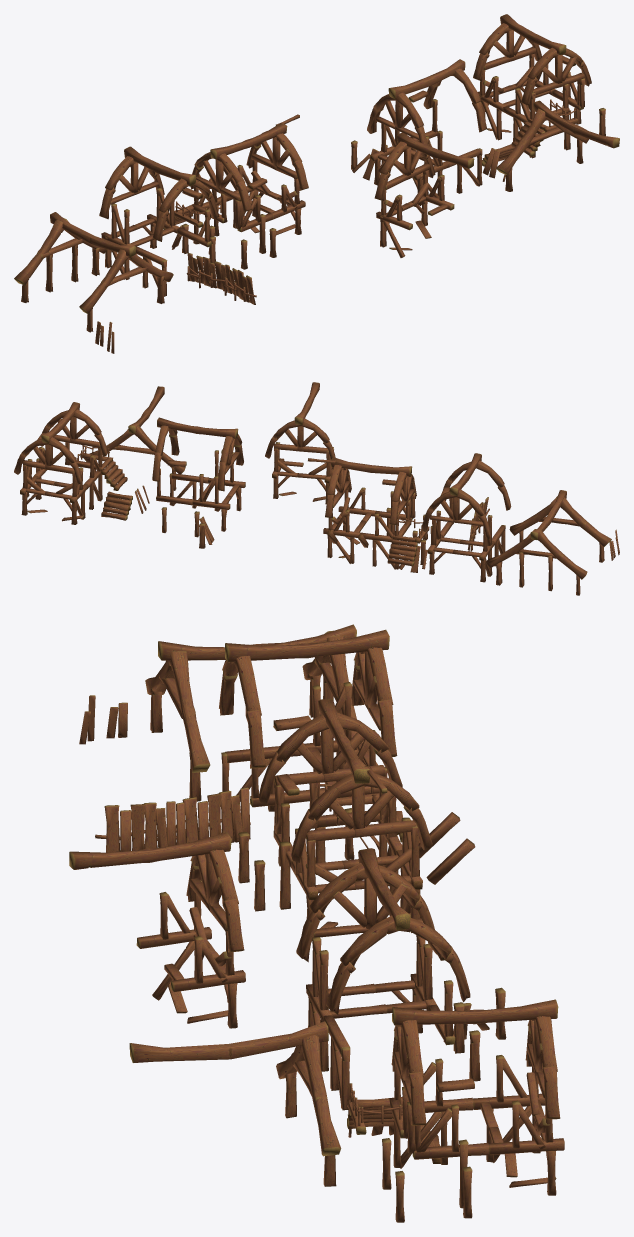
File: WoodBlockThree.FBX
The picture shows the model from 3 angles, top to bottom: view 1: azimuth 30°, elevation 25°; view 2: azimuth 150°, elevation 25°; view 3: azimuth 270°, elevation 25°; orthographic projection. The views are drawn at different scales.
Parts seen in each view (by area): view 1: WoodlMaterialBlock3; view 2: WoodlMaterialBlock3; view 3: WoodlMaterialBlock3.
Boxes of the visible parts, <box> form: WoodlMaterialBlock3: <box>14,14,619,353</box>; WoodlMaterialBlock3: <box>14,382,619,595</box>; WoodlMaterialBlock3: <box>69,624,564,1222</box>.
Size of the model in its own units: 129 by 23.92 by 52.39.
